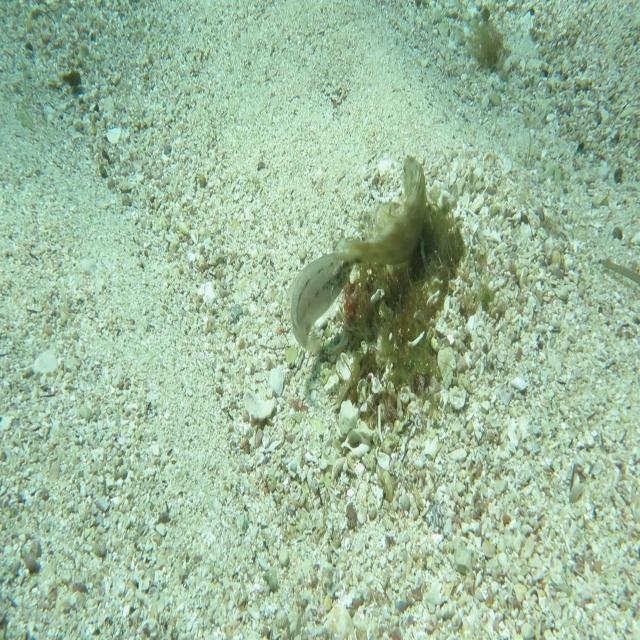SPA: (332, 155, 428, 267)
core_nest: (396, 217, 442, 268)
female: (285, 250, 357, 360)
nest: (329, 172, 476, 428)
